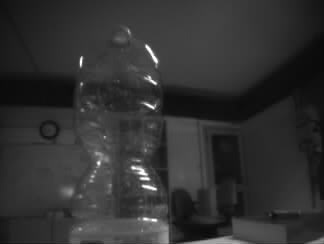Bottle: (65, 23, 172, 244)
